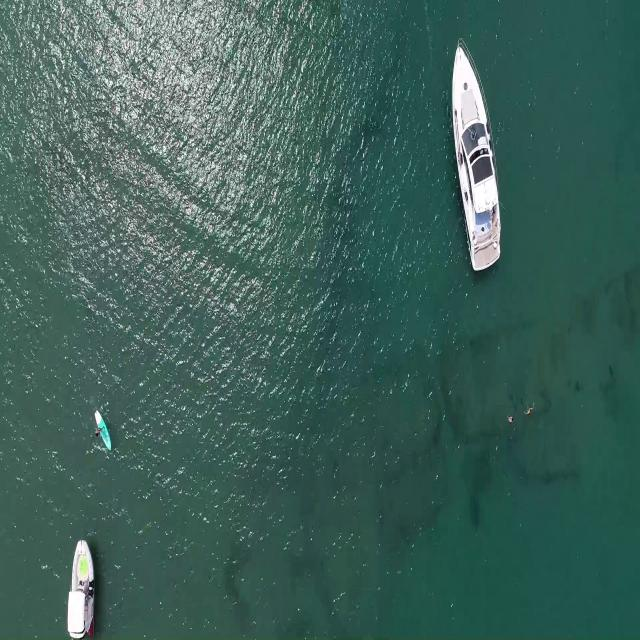boat: (449, 36, 504, 274), (66, 536, 98, 627)
person: (523, 403, 537, 417), (93, 424, 104, 438), (508, 414, 516, 424)
surfboard: (95, 407, 111, 457)
